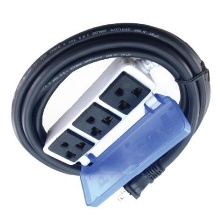three_eye_plug: (39, 50, 158, 169)
